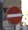No entry: (5, 5, 23, 25)
